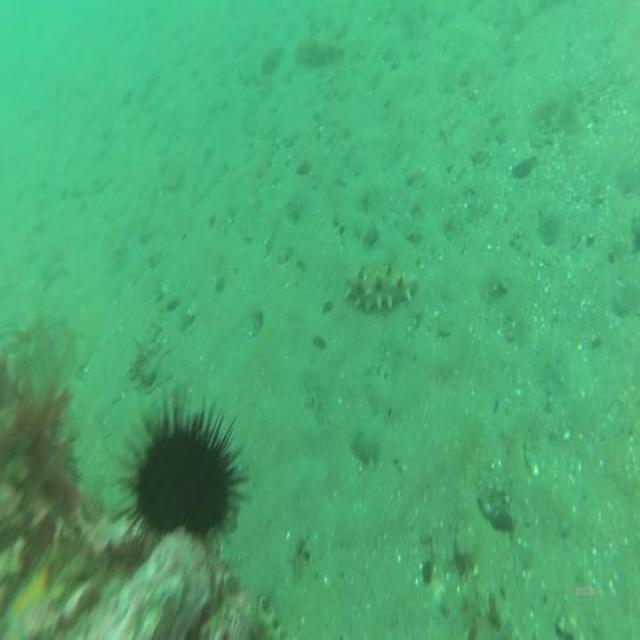echinus: (108, 394, 254, 548)
holothurian: (343, 254, 417, 320)
waterweeds: (0, 359, 84, 520)
